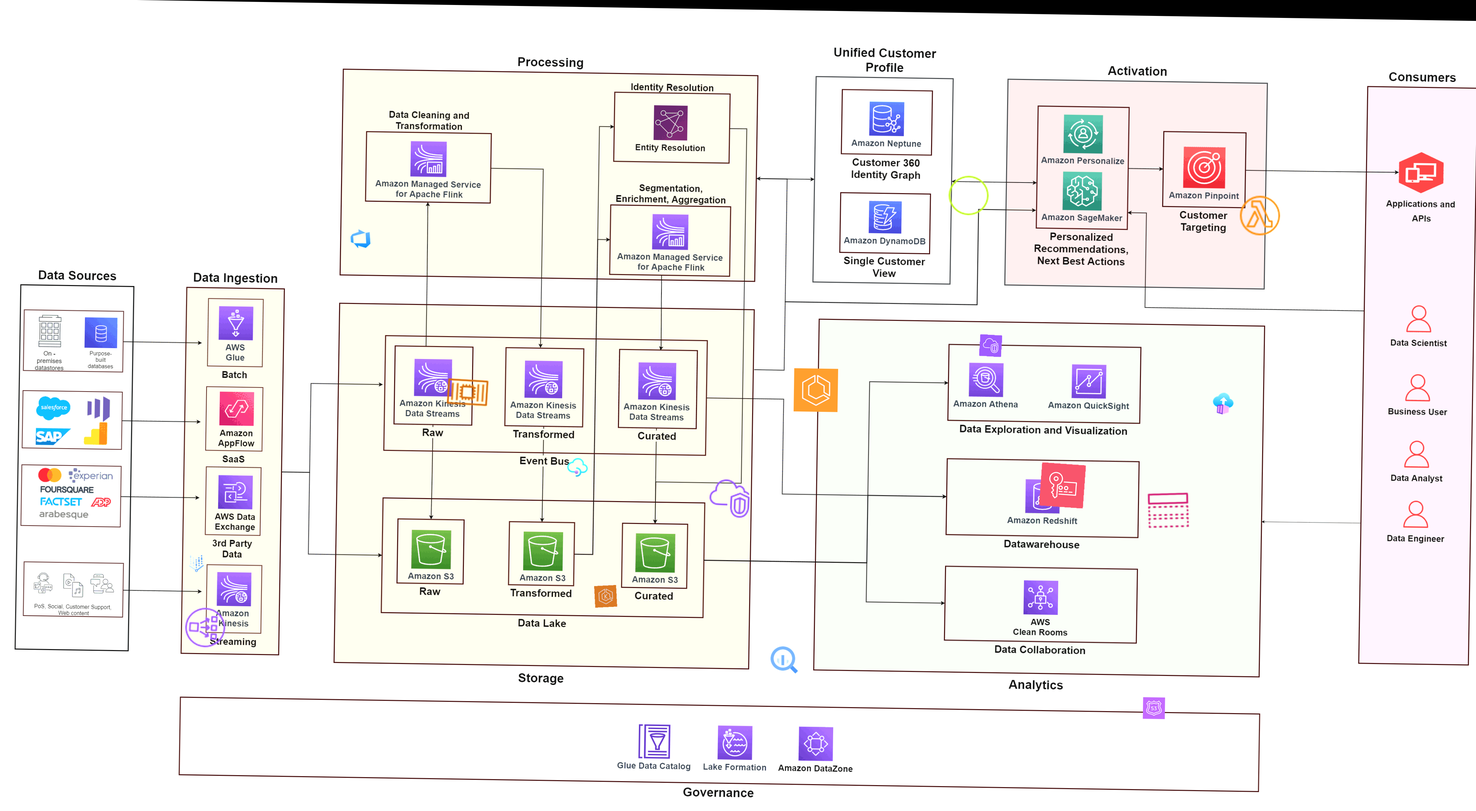aws_amazon_elastic_container_service: (793, 368, 838, 412)
aws_amazon_elastic_kubernetes_service: (593, 584, 618, 608)
aws_amazon_route_53: (1142, 697, 1165, 719)
aws_amazon_virtual_private_cloud: (979, 334, 1002, 357)
aws_elastic_container_service_container_2: (444, 369, 491, 415)
aws_elastic_load_balancing_network_load_balancer: (182, 605, 228, 650)
aws_key_management_service: (1039, 462, 1086, 509)
aws_lambda_lambda_function: (1237, 193, 1282, 238)
aws_simple_notification_service_topic: (1145, 487, 1191, 533)
aws_simple_storage_service_object: (946, 173, 991, 218)
aws_vpc_virtual_private_cloud_vpc: (706, 475, 753, 521)
azure_api_management_services: (565, 456, 589, 479)
azure_container_instances: (1211, 392, 1235, 415)
azure_devops: (348, 226, 372, 251)
gcp_bigquery: (767, 643, 801, 677)
gcp_vertex_ai: (184, 552, 208, 575)
